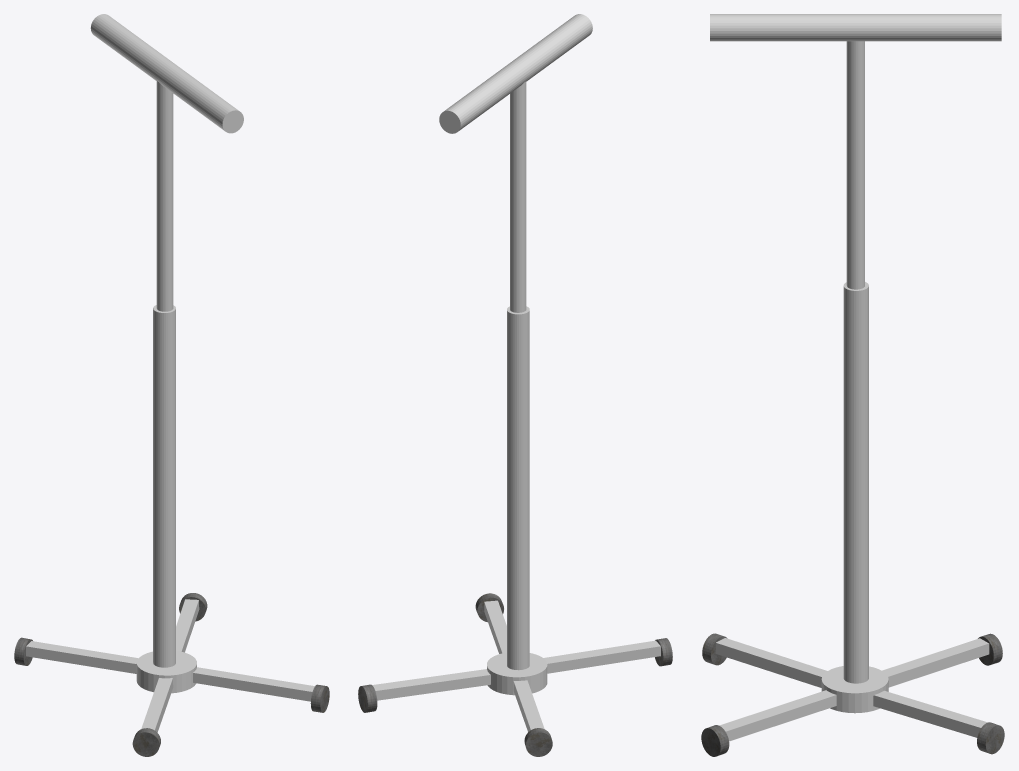
Rendered from IV_Stand2.fbx.
3 views of the same model, side by side, from view 1: azimuth 30°, elevation 25°; view 2: azimuth 150°, elevation 25°; view 3: azimuth 270°, elevation 25° (orthographic). The views are drawn at different scales.
Visible parts, largest first — view 1: Cylinder.004, Cylinder.006, Cylinder.007, Cube, Cube.001, Cylinder, Cube.002, Cube.003, Cylinder.002; view 2: Cylinder.004, Cylinder.006, Cylinder.007, Cube.003, Cube.002, Cylinder, Cube.001, Cube, Cylinder.003; view 3: Cylinder.004, Cylinder.006, Cylinder.007, Cube, Cube.002, Cube.003, Cylinder, Cube.001, Cylinder.005, Cylinder.001.
Boxes of the visible parts, x1=… form: Cylinder.004: x1=153, y1=305, x2=175, y2=667; Cylinder.006: x1=90, y1=14, x2=243, y2=133; Cylinder.007: x1=156, y1=81, x2=173, y2=311; Cube: x1=193, y1=667, x2=314, y2=701; Cube.001: x1=26, y1=641, x2=138, y2=673; Cylinder: x1=136, y1=650, x2=196, y2=693; Cube.002: x1=141, y1=678, x2=173, y2=732; Cube.003: x1=176, y1=599, x2=199, y2=652; Cylinder.002: x1=132, y1=728, x2=160, y2=756; Cylinder.004: x1=507, y1=306, x2=529, y2=670; Cylinder.006: x1=439, y1=14, x2=592, y2=133; Cylinder.007: x1=510, y1=81, x2=526, y2=312; Cube.003: x1=372, y1=669, x2=490, y2=700; Cube.002: x1=543, y1=640, x2=660, y2=673; Cylinder: x1=487, y1=652, x2=547, y2=695; Cube.001: x1=513, y1=680, x2=544, y2=731; Cube: x1=484, y1=600, x2=506, y2=653; Cylinder.003: x1=524, y1=728, x2=552, y2=756; Cylinder.004: x1=843, y1=282, x2=868, y2=683; Cylinder.006: x1=710, y1=14, x2=1001, y2=41; Cylinder.007: x1=846, y1=41, x2=864, y2=289; Cube: x1=719, y1=690, x2=836, y2=741; Cube.002: x1=715, y1=638, x2=827, y2=687; Cube.003: x1=873, y1=690, x2=987, y2=737; Cylinder: x1=821, y1=666, x2=888, y2=713; Cube.001: x1=882, y1=638, x2=989, y2=687; Cylinder.005: x1=701, y1=725, x2=729, y2=756; Cylinder.001: x1=977, y1=722, x2=1004, y2=754.
Bounding box in the file's own units: 272 × 826 × 328.
Materials: 3 (2 with a texture image).
